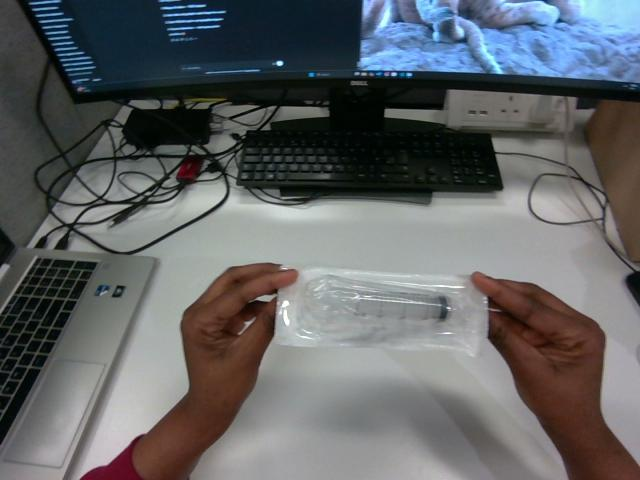syringe: (275, 268, 487, 354)
